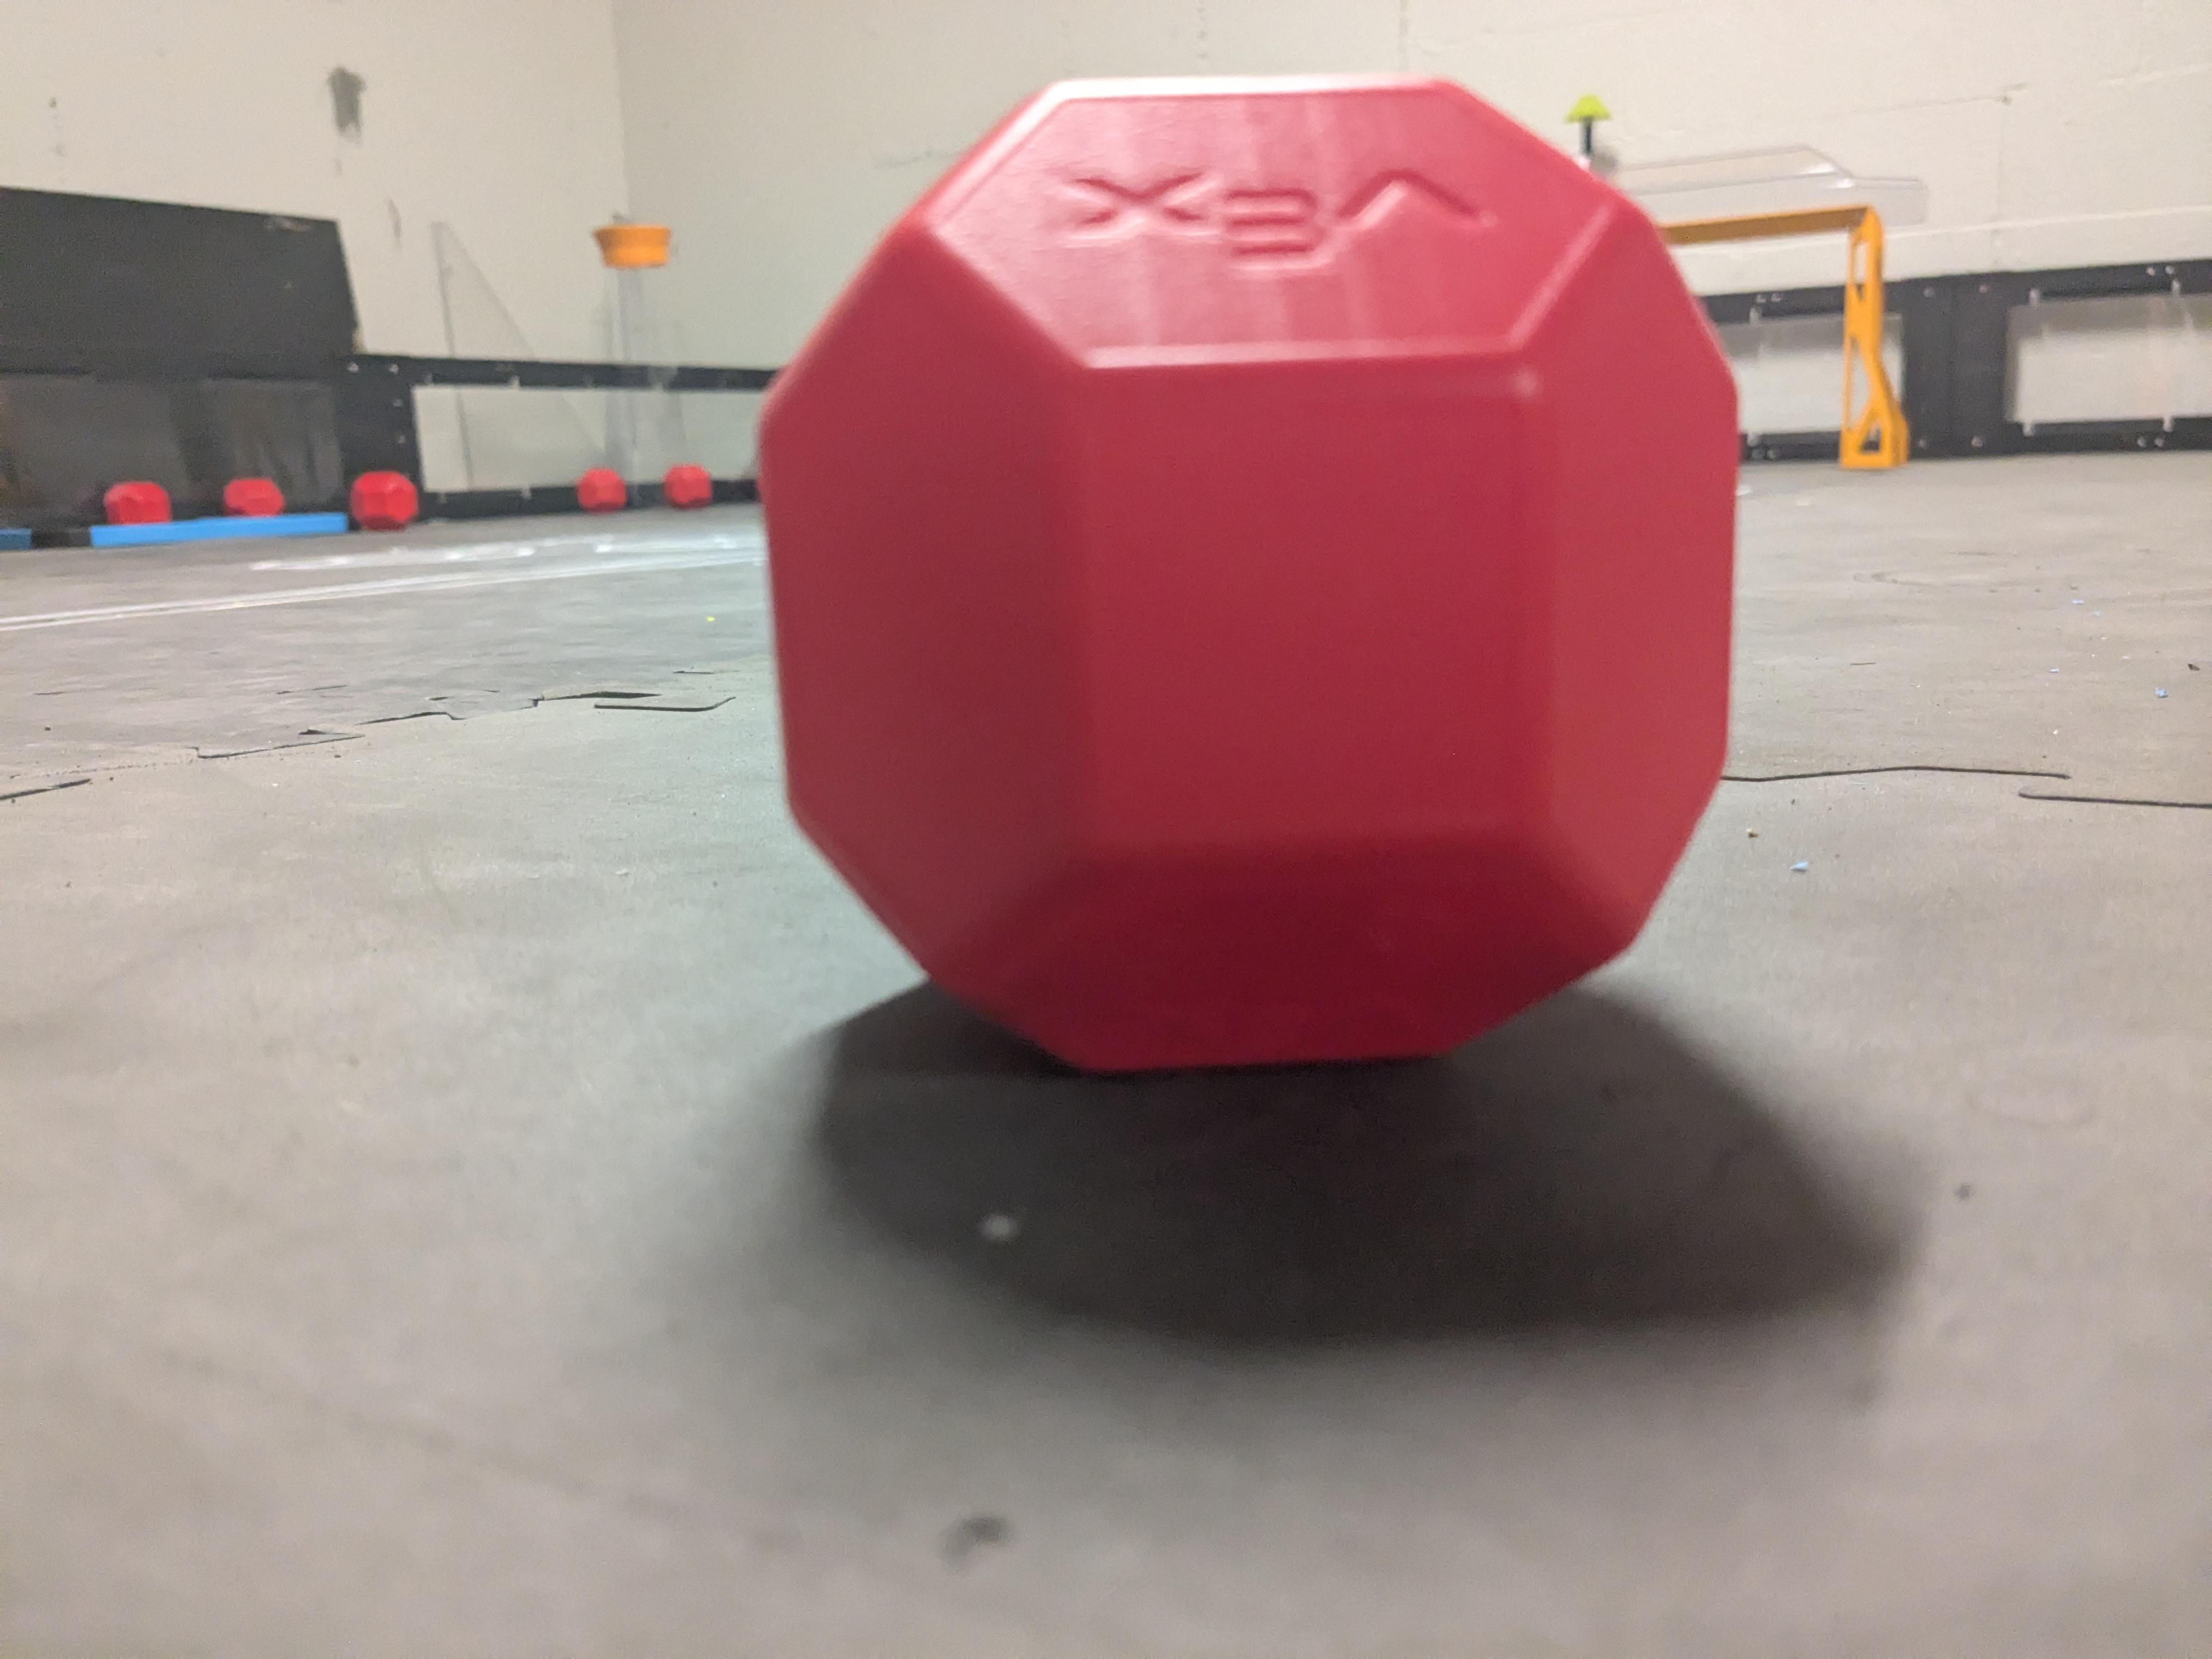Vex-Pieces-RED: (759, 78, 1738, 1070)
